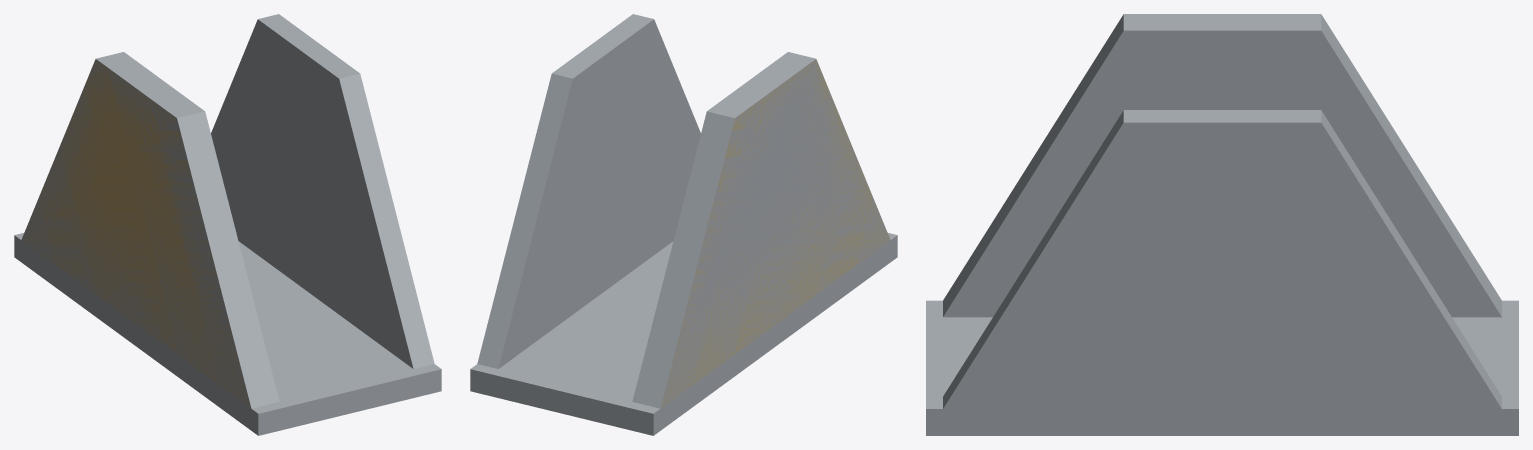
File: step_02.glb
3 renders of one model, left to right at view 1: azimuth 30°, elevation 25°; view 2: azimuth 150°, elevation 25°; view 3: azimuth 270°, elevation 25°, orthographic. The views are drawn at different scales.
Visible parts, largest first — view 1: part__Worksheet 13 clevis bracket, added__Worksheet 13 clevis bracket; view 2: part__Worksheet 13 clevis bracket, added__Worksheet 13 clevis bracket; view 3: part__Worksheet 13 clevis bracket.
Boxes of the visible parts, x1,y1,x2,y2 form: part__Worksheet 13 clevis bracket: (14, 14, 441, 435); added__Worksheet 13 clevis bracket: (22, 59, 250, 407); part__Worksheet 13 clevis bracket: (470, 14, 897, 435); added__Worksheet 13 clevis bracket: (661, 60, 889, 406); part__Worksheet 13 clevis bracket: (926, 14, 1518, 435).
Size of the model in its own units: 26 by 35 by 60.
